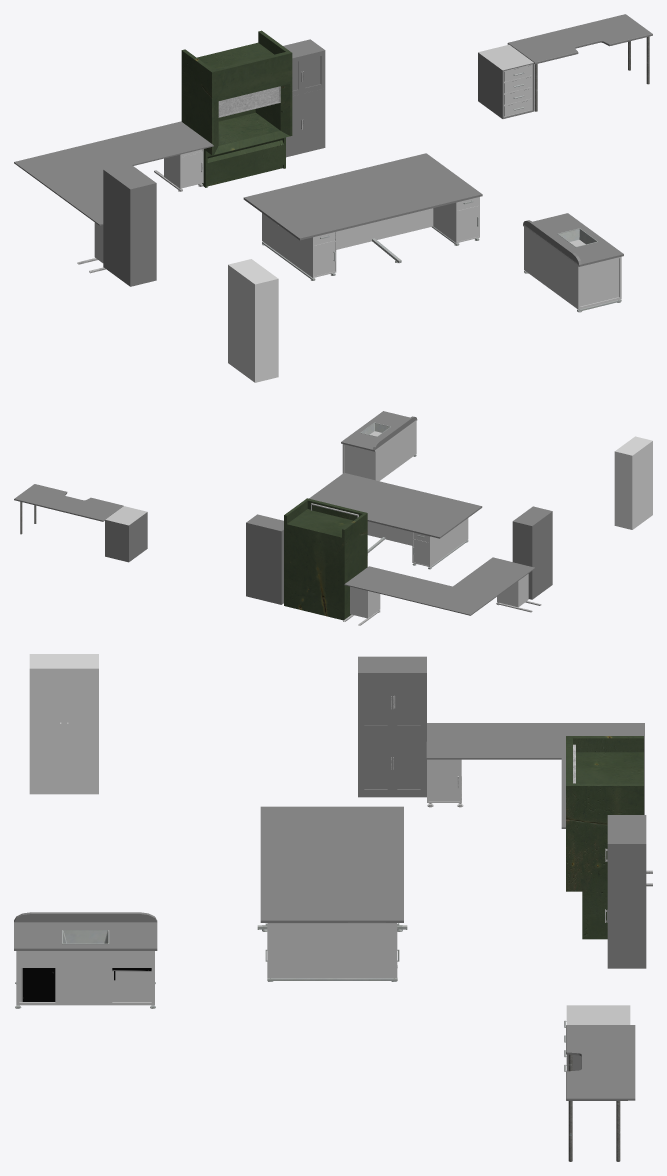
The model's file is LabItems.fbx.
3 renders of one model, top to bottom at view 1: azimuth 30°, elevation 25°; view 2: azimuth 150°, elevation 25°; view 3: azimuth 270°, elevation 25°, orthographic. The views are drawn at different scales.
Parts seen in each view (by area): view 1: Bench_1, Machine_1.001, Desk_1, Sink_1.001, Desk, Cupboard_2, Cupboard_1.001, Cupboard_1.007, Machine_1.002, Cupboard_1, Cupboard_1.004, Cupboard_1.006 (+3 smaller); view 2: Machine_1.001, Bench_1, Desk_1, Desk, Sink_1.001, Cupboard_1.001, Cupboard_1, Cupboard_2, Bench_1.006, Machine_1.002; view 3: Bench_1, Sink_1.001, Machine_1.001, Desk, Desk_1, Cupboard_1, Cupboard_1.008, Cupboard_1.009, Sink_1.002, Cupboard_2, Cupboard_2.004, Cupboard_2.002 (+4 smaller).
Boxes of the visible parts, x1=… form: Bench_1: x1=243, y1=153, x2=482, y2=280; Machine_1.001: x1=181, y1=30, x2=292, y2=187; Desk_1: x1=14, y1=121, x2=213, y2=273; Sink_1.001: x1=523, y1=213, x2=623, y2=312; Desk: x1=478, y1=14, x2=652, y2=118; Cupboard_2: x1=103, y1=163, x2=156, y2=286; Cupboard_1.001: x1=228, y1=259, x2=278, y2=382; Cupboard_1.007: x1=302, y1=88, x2=324, y2=150; Machine_1.002: x1=218, y1=86, x2=280, y2=117; Cupboard_1: x1=283, y1=39, x2=325, y2=157; Cupboard_1.004: x1=302, y1=52, x2=324, y2=92; Cupboard_1.006: x1=286, y1=94, x2=302, y2=154; Machine_1.001: x1=284, y1=498, x2=367, y2=620; Bench_1: x1=309, y1=473, x2=482, y2=569; Desk_1: x1=343, y1=557, x2=541, y2=625; Desk: x1=14, y1=484, x2=147, y2=562; Sink_1.001: x1=341, y1=411, x2=417, y2=481; Cupboard_1.001: x1=614, y1=436, x2=652, y2=529; Cupboard_1: x1=246, y1=514, x2=283, y2=604; Cupboard_2: x1=512, y1=506, x2=552, y2=599; Bench_1.006: x1=413, y1=540, x2=428, y2=565; Machine_1.002: x1=311, y1=503, x2=358, y2=520; Bench_1: x1=257, y1=806, x2=407, y2=981; Sink_1.001: x1=14, y1=912, x2=157, y2=1008; Machine_1.001: x1=566, y1=736, x2=643, y2=939; Desk: x1=566, y1=1005, x2=635, y2=1161; Desk_1: x1=426, y1=723, x2=652, y2=886; Cupboard_1: x1=607, y1=815, x2=646, y2=968; Cupboard_1.008: x1=30, y1=670, x2=64, y2=788; Cupboard_1.009: x1=64, y1=670, x2=97, y2=788; Sink_1.002: x1=19, y1=968, x2=151, y2=1001; Cupboard_2: x1=358, y1=656, x2=426, y2=797; Cupboard_2.004: x1=359, y1=731, x2=392, y2=794; Cupboard_2.002: x1=392, y1=731, x2=425, y2=794.
Size of the model in its own units: 1181 by 220 by 830.
